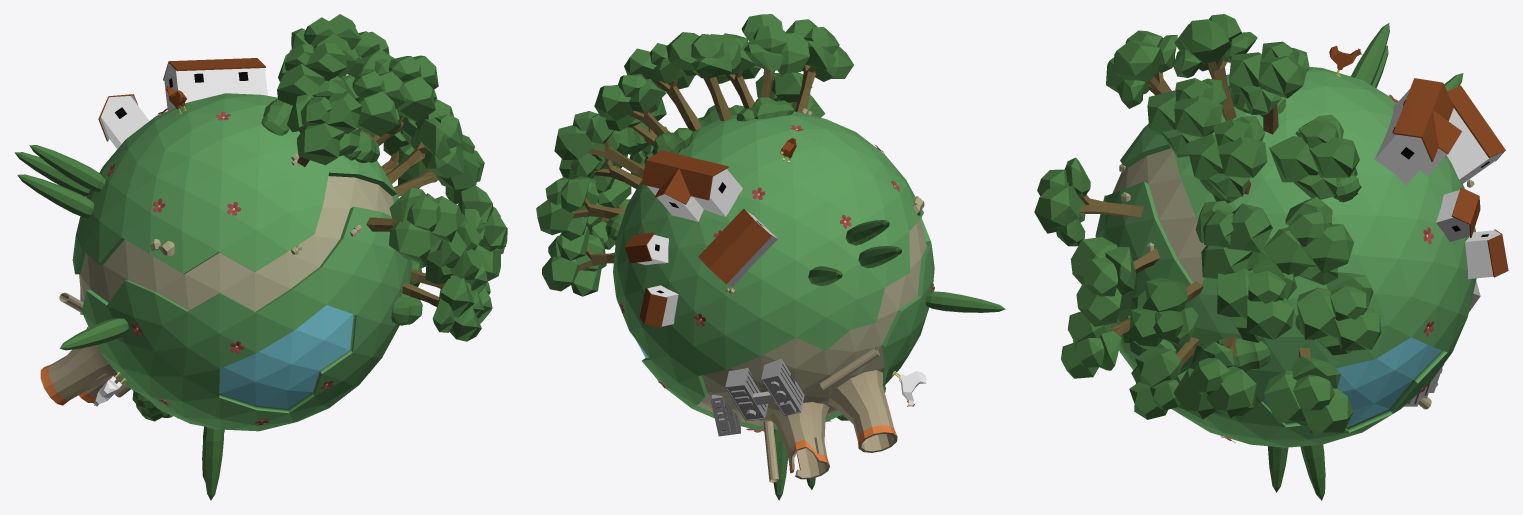
The model's file is terre_bois.fbx.
The picture shows the model from 3 angles, left to right: view 1: azimuth 30°, elevation 25°; view 2: azimuth 150°, elevation 25°; view 3: azimuth 270°, elevation 25°; orthographic projection. The views are drawn at different scales.
Visible parts, largest first — view 1: terre, Cheminée; view 2: terre, Cheminée, Bâtiment_2, Cheminée1, pCube8, pCylinder2, pCylinder3; view 3: terre.
Part boxes in pixels (x1,y1,x2,y2): terre: [14, 14, 507, 500]; Cheminée: [40, 326, 121, 405]; terre: [536, 14, 1005, 500]; Cheminée: [828, 370, 897, 452]; Bâtiment_2: [725, 359, 804, 421]; Cheminée1: [769, 402, 829, 479]; pCube8: [710, 392, 740, 436]; pCylinder2: [820, 347, 879, 390]; pCylinder3: [763, 421, 778, 482]; terre: [1034, 14, 1508, 500].
Size of the model in its own units: 307 by 299 by 247.
